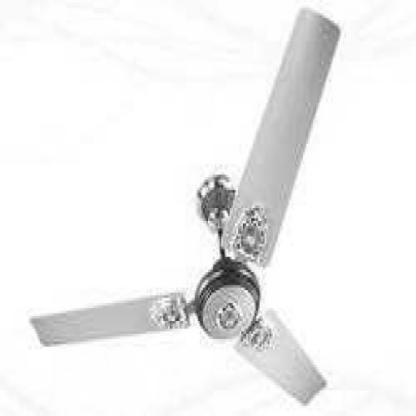ceiling-fan: (28, 4, 341, 406)
